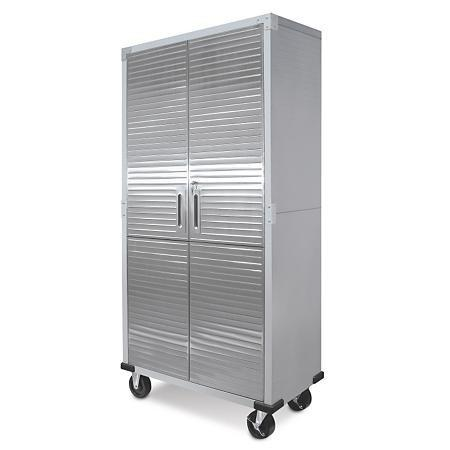cabinet_door: (190, 33, 265, 390), (125, 49, 190, 371)
handle: (189, 184, 204, 234), (175, 189, 186, 232)
